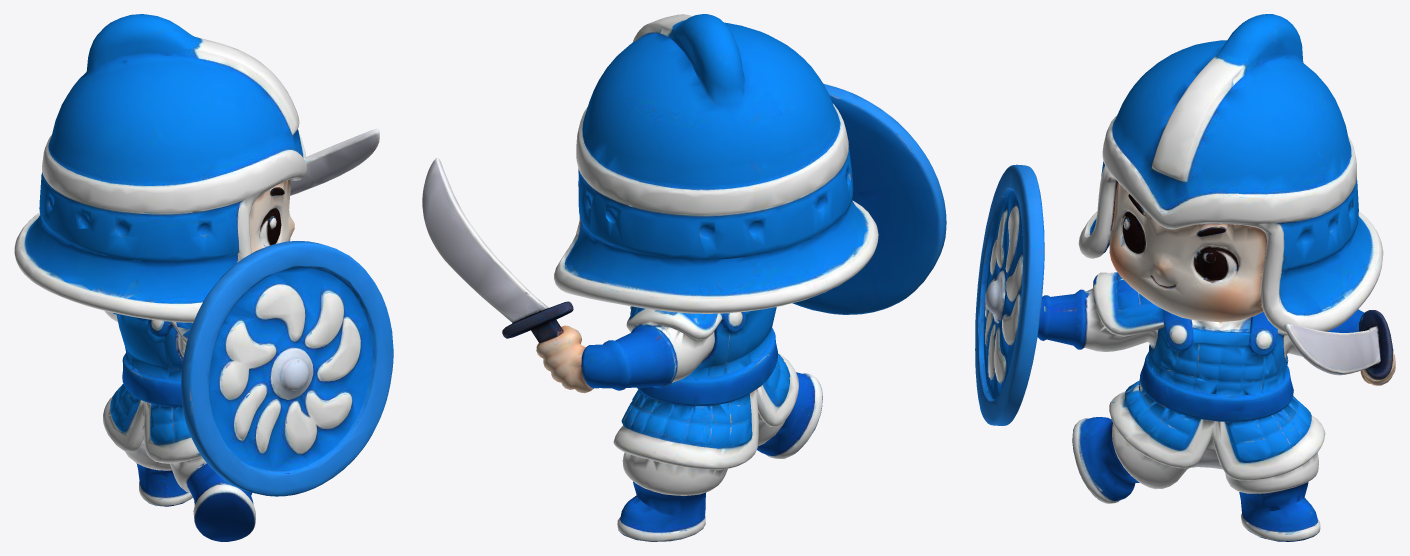
File: foot.glb
3 renders of one model, left to right at view 1: azimuth 30°, elevation 25°; view 2: azimuth 150°, elevation 25°; view 3: azimuth 270°, elevation 25°, orthographic. The views are drawn at different scales.
Visible parts, largest first — view 1: foot; view 2: foot; view 3: foot.
Part boxes in pixels (x1,y1,x2,y2): foot: (14,14,393,541); foot: (422,14,946,541); foot: (975,14,1395,541).
Bounding box in the file's own units: 0.8082 × 1 × 0.7724.
1 material, 1 textured.
